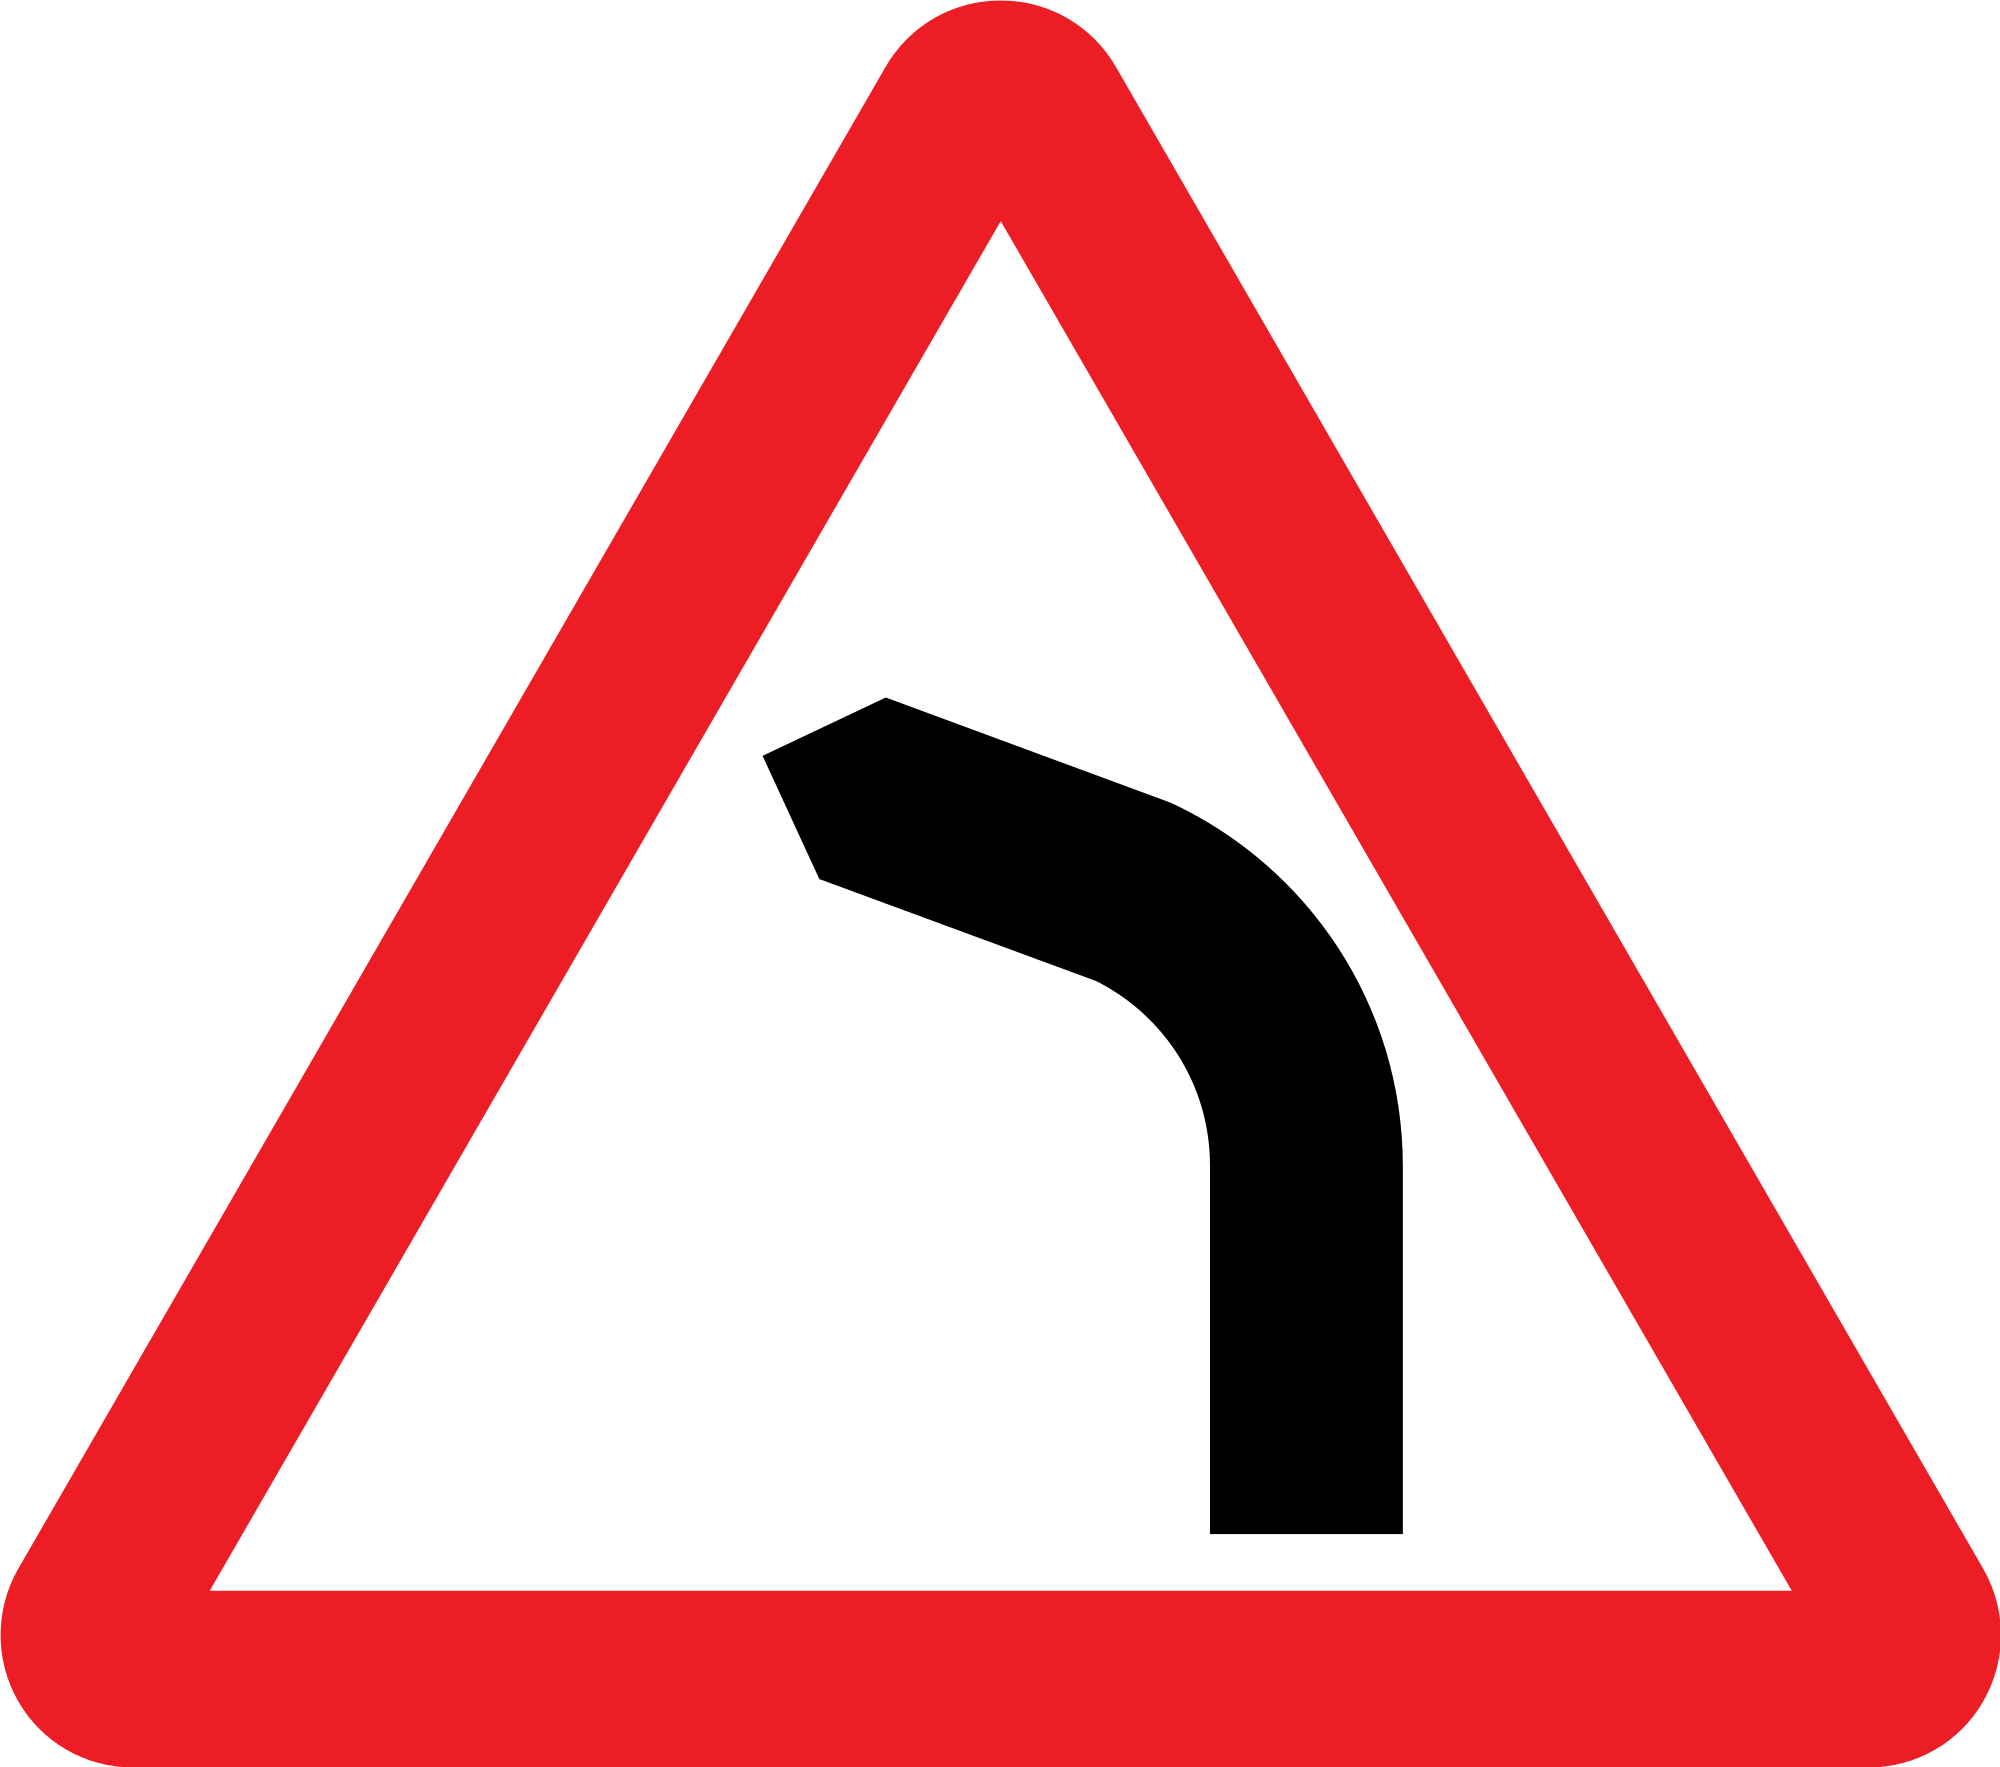Bend_to_left: (3, 3, 1997, 1767)
